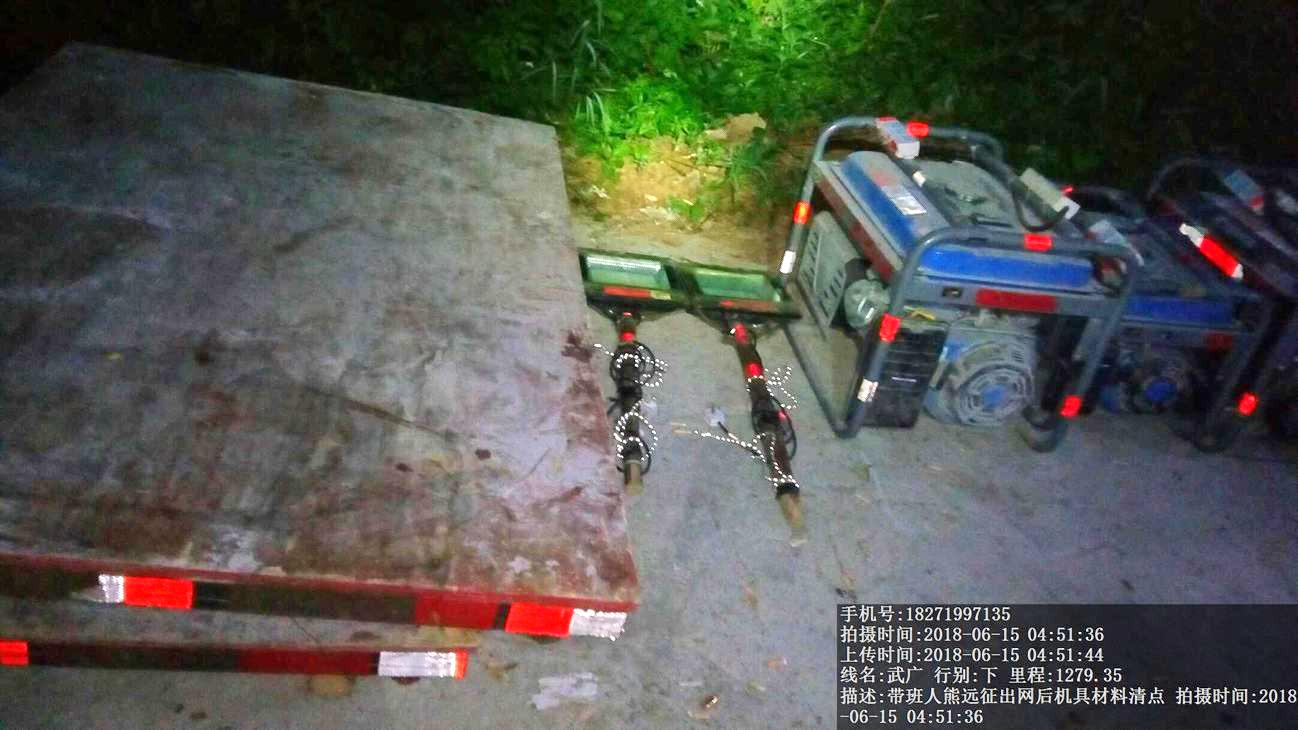DJ: (777, 122, 1092, 455), (1083, 154, 1275, 456)
